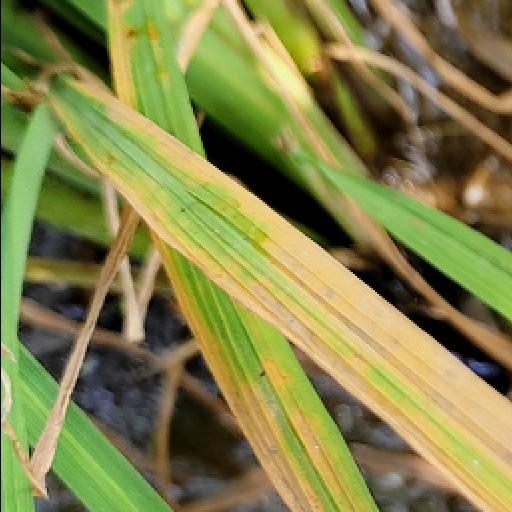Sheath Blight: (46, 74, 512, 512)
